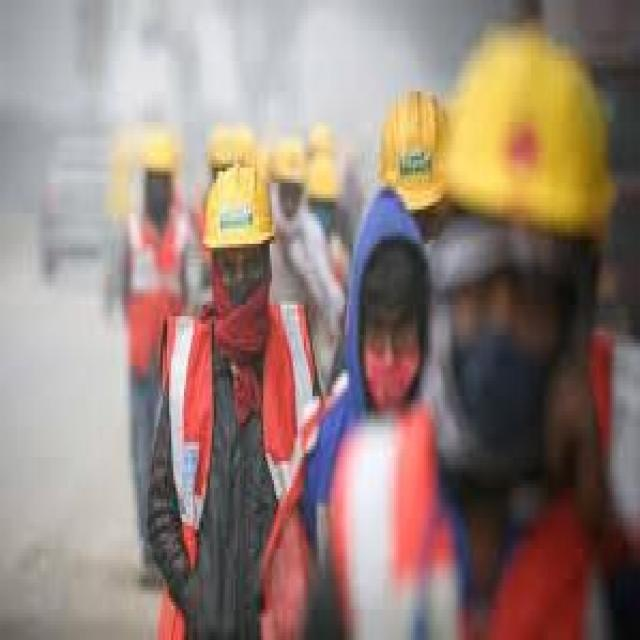Reflective-Jacket: (150, 299, 328, 525), (120, 210, 186, 388)
Safety-Helmet: (439, 15, 627, 267), (370, 85, 450, 216), (199, 152, 280, 259), (131, 118, 186, 191), (266, 133, 314, 187)
